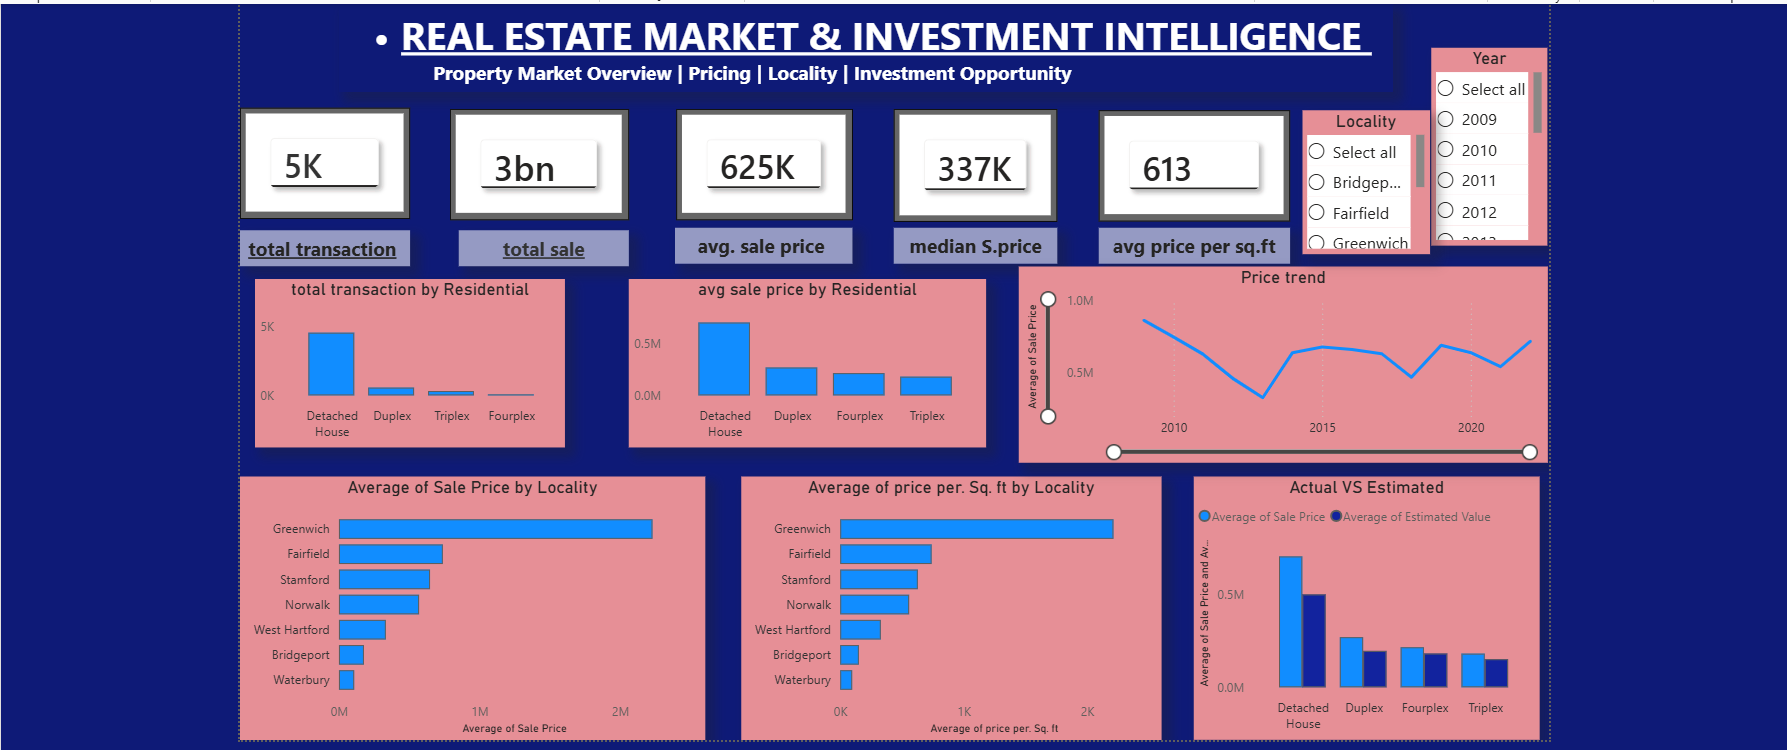

What the dashboard file says about the page in this screenshot:
{"tool":"powerbi","page":{"name":"dashboard","canvas":[1280,720],"ordinal":0},"visuals":[{"type":"textbox","box":[96.7,0,1031.6,86.6],"z":0},{"type":"cardVisual","fields":{"Data":["calculated data.total transaction"]},"box":[0,101.5,166.3,108.8],"z":1000},{"type":"cardVisual","fields":{"Data":["calculated data.total sale value"]},"box":[205.4,102.7,174.9,108.8],"z":2000},{"type":"cardVisual","fields":{"Data":["calculated data.avg sale price"]},"box":[426.8,102.7,172.4,108.8],"z":3000},{"type":"cardVisual","fields":{"Data":["calculated data.median sale price"]},"box":[639.5,102.7,160.2,110.1],"z":4000},{"type":"textbox","box":[0,221.3,166.3,35.5],"z":5000},{"type":"textbox","box":[214,221.3,166.3,35.5],"z":6000},{"type":"textbox","box":[425.5,218.9,173.6,35.5],"z":7000},{"type":"textbox","box":[639.5,218.9,160.2,35.5],"z":8000},{"type":"cardVisual","fields":{"Data":["calculated data.avg price per sq.ft"]},"box":[840.1,103.9,187.1,108.8],"z":9000},{"type":"textbox","box":[840.1,218.9,187.1,35.5],"z":10000},{"type":"clusteredBarChart","fields":{"Category":["calculated data.Locality"],"Y":["Avg(calculated data.Sale Price)"]},"box":[0,462.2,454.9,258],"z":11000},{"type":"clusteredBarChart","fields":{"Category":["calculated data.Locality"],"Y":["Avg(calculated data.price per. Sq. ft)"]},"box":[490.4,462.2,410.9,258],"z":12000},{"type":"clusteredColumnChart","fields":{"Category":["calculated data.Residential"],"Y":["calculated data.avg sale price"]},"box":[380.3,269,349.7,165.1],"z":13000},{"type":"clusteredColumnChart","fields":{"Category":["calculated data.Residential"],"Y":["calculated data.total transaction"]},"box":[14.7,269,303.3,165.1],"z":14000},{"type":"clusteredColumnChart","title":"Actual VS Estimated","fields":{"Category":["calculated data.Residential"],"Y":["Avg(calculated data.Sale Price)","Avg(calculated data.Estimated Value)"]},"box":[933,462.2,338.5,257.4],"z":15000},{"type":"lineChart","title":"Price trend ","fields":{"Y":["Avg(calculated data.Sale Price)"],"Category":["calculated data.Year"]},"box":[761.8,256.8,518,191.9],"z":16000},{"type":"listSlicer","fields":{"Values":["calculated data.Year"]},"box":[1165.8,43.3,114,193.3],"z":17000},{"type":"listSlicer","fields":{"Values":["calculated data.Locality"]},"box":[1039.4,103.9,124.7,140.6],"z":18000}]}

Visuals, with their boxes in screenshot pixels (x1, y1, x2, y2):
textbox: <box>332,0,1391,84</box>
cardVisual - calculated data.total transaction: <box>233,100,403,211</box>
cardVisual - calculated data.total sale value: <box>443,101,623,212</box>
cardVisual - calculated data.avg sale price: <box>671,101,848,212</box>
cardVisual - calculated data.median sale price: <box>889,101,1053,214</box>
textbox: <box>233,222,403,259</box>
textbox: <box>452,222,623,259</box>
textbox: <box>669,220,847,256</box>
textbox: <box>889,220,1053,256</box>
cardVisual - calculated data.avg price per sq.ft: <box>1095,102,1287,214</box>
textbox: <box>1095,220,1287,256</box>
clusteredBarChart - calculated data.Locality x Avg(calculated data.Sale Price): <box>233,470,700,734</box>
clusteredBarChart - calculated data.Locality x Avg(calculated data.price per. Sq. ft): <box>736,470,1158,734</box>
clusteredColumnChart - calculated data.Residential x calculated data.avg sale price: <box>623,271,982,441</box>
clusteredColumnChart - calculated data.Residential x calculated data.total transaction: <box>248,271,559,441</box>
"Actual VS Estimated" clusteredColumnChart: <box>1190,470,1538,734</box>
"Price trend " lineChart: <box>1014,259,1546,456</box>
listSlicer - calculated data.Year: <box>1429,40,1546,238</box>
listSlicer - calculated data.Locality: <box>1299,102,1427,246</box>
